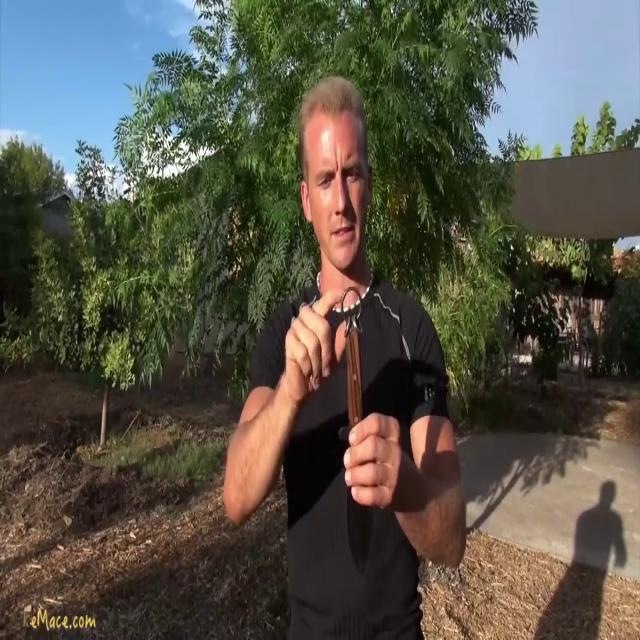knife: (333, 254, 377, 596)
